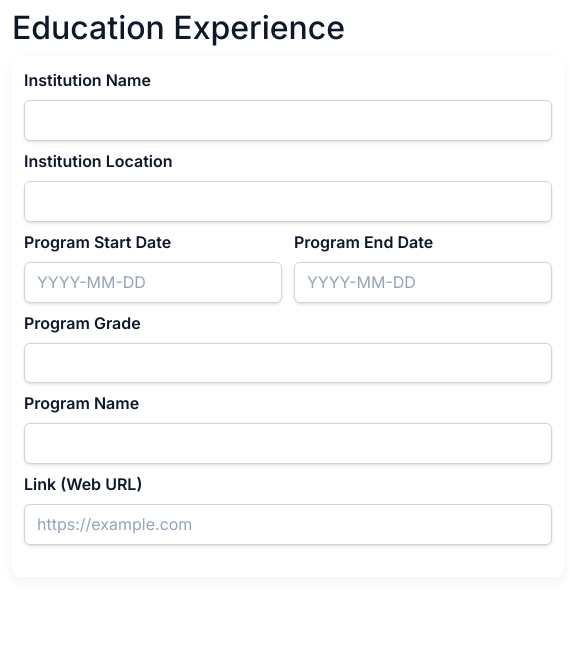
Test: NewEducation › shows submit button when form is edited
Expected: the button "Create New Education Experience" is not shown
In the field labelled "Institution Name": (288, 120) [24,100,552,141], type "MIT"
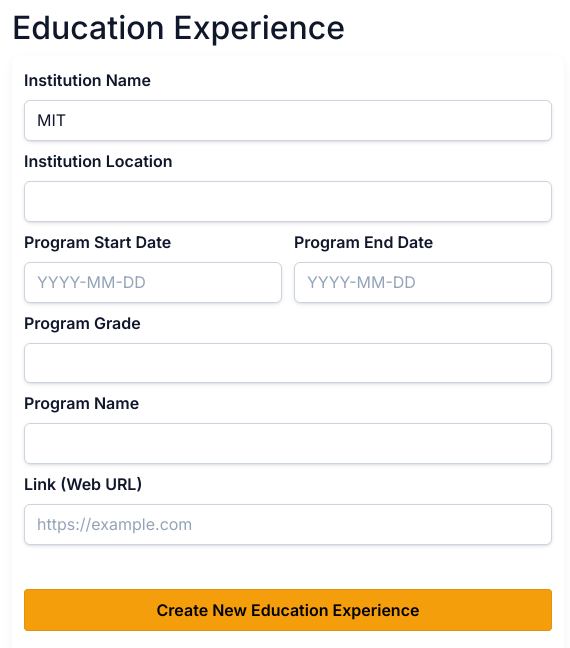
Expected: the button "Create New Education Experience" is shown, [24,589,552,631]
